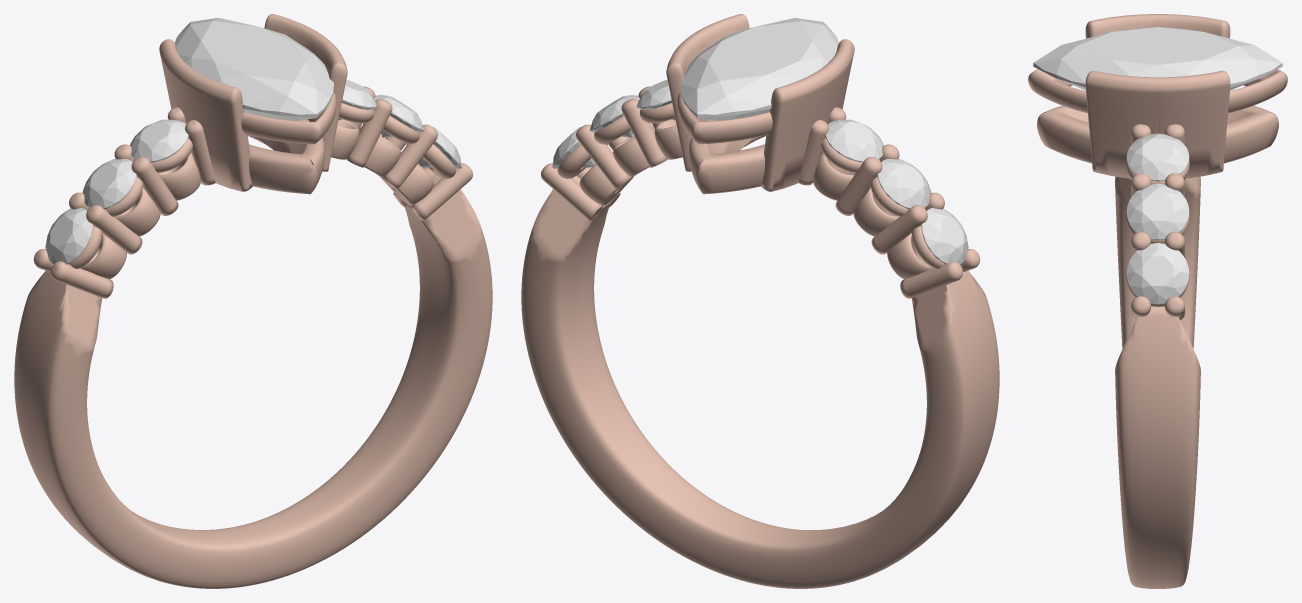
File: diamond-marquise-rosegold-halfmoonbezel-straighttaperedband-7stone.glb
3 renders of one model, left to right at view 1: azimuth 30°, elevation 25°; view 2: azimuth 150°, elevation 25°; view 3: azimuth 270°, elevation 25°, orthographic.
Parts seen in each view (by area): view 1: metal.003, stone.001, dia.002, dia.015, dia.016, dia.018, dia.019; view 2: metal.003, stone.001, dia.002, dia.015, dia.016, dia.018, dia.019; view 3: metal.003, stone.001, dia.017, dia.018, dia.019.
Part boxes in pixels (x1=…): metal.003: x1=14, y1=14, x2=492, y2=588; stone.001: x1=175, y1=18, x2=333, y2=120; dia.002: x1=45, y1=207, x2=92, y2=264; dia.015: x1=82, y1=159, x2=136, y2=209; dia.016: x1=130, y1=119, x2=188, y2=162; dia.018: x1=374, y1=95, x2=423, y2=137; dia.019: x1=338, y1=80, x2=376, y2=120; metal.003: x1=521, y1=14, x2=999, y2=588; stone.001: x1=680, y1=18, x2=838, y2=120; dia.002: x1=921, y1=208, x2=968, y2=264; dia.015: x1=877, y1=159, x2=931, y2=209; dia.016: x1=825, y1=119, x2=883, y2=162; dia.018: x1=589, y1=95, x2=639, y2=137; dia.019: x1=637, y1=80, x2=675, y2=120; metal.003: x1=1028, y1=14, x2=1287, y2=588; stone.001: x1=1033, y1=27, x2=1282, y2=90; dia.017: x1=1126, y1=243, x2=1189, y2=304; dia.018: x1=1126, y1=184, x2=1189, y2=240; dia.019: x1=1126, y1=133, x2=1189, y2=181.
Bounding box in the file's own units: 20.5 × 22.93 × 10.4.
